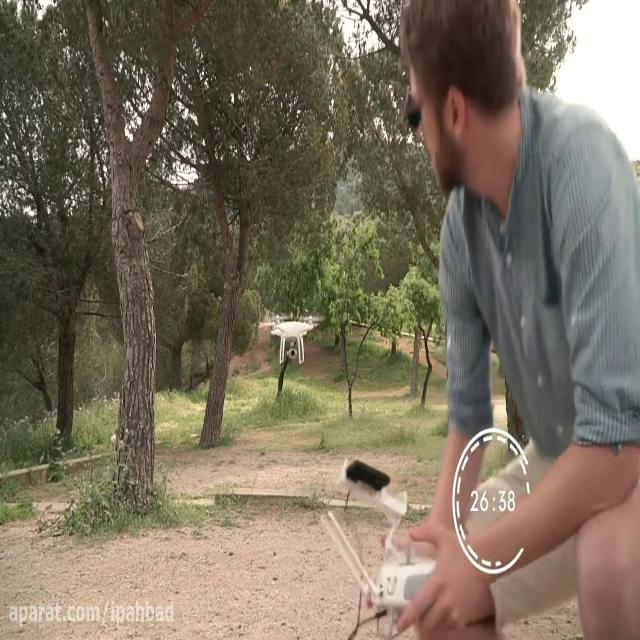drone: (261, 310, 327, 368)
